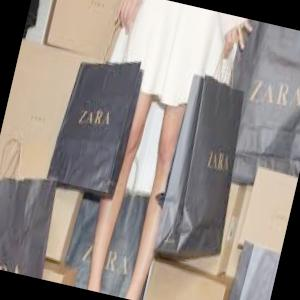zara: (242, 65, 300, 116), (201, 144, 237, 179), (74, 105, 114, 136)
